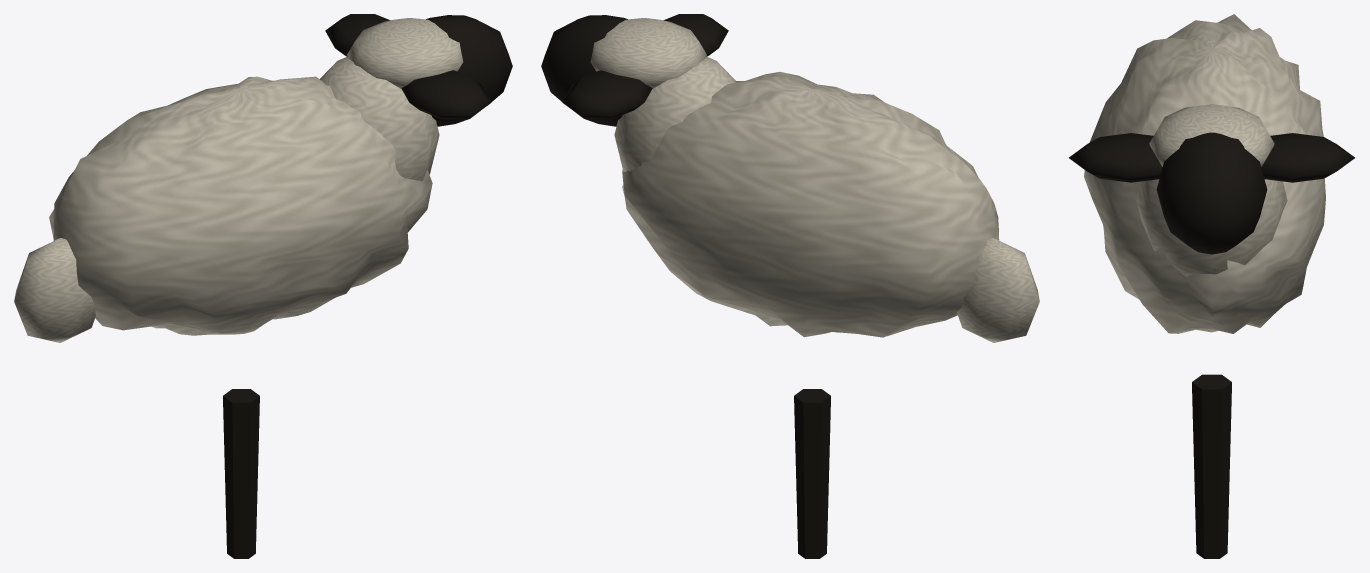
The model's file is SheepRig.glb.
The picture shows the model from 3 angles, left to right: view 1: azimuth 30°, elevation 25°; view 2: azimuth 150°, elevation 25°; view 3: azimuth 270°, elevation 25°; orthographic projection. The views are drawn at different scales.
Visible parts, largest first — view 1: Sheep_Rig_body, Sheep_Rig_head, Sheep_Rig_leg; view 2: Sheep_Rig_body, Sheep_Rig_head, Sheep_Rig_leg; view 3: Sheep_Rig_body, Sheep_Rig_head, Sheep_Rig_leg.
Part boxes in pixels (x1=…): Sheep_Rig_body: x1=14, y1=76, x2=432, y2=342; Sheep_Rig_head: x1=320, y1=14, x2=512, y2=181; Sheep_Rig_leg: x1=223, y1=389, x2=259, y2=558; Sheep_Rig_body: x1=622, y1=72, x2=1039, y2=342; Sheep_Rig_head: x1=541, y1=14, x2=735, y2=171; Sheep_Rig_leg: x1=794, y1=389, x2=830, y2=558; Sheep_Rig_body: x1=1084, y1=14, x2=1325, y2=333; Sheep_Rig_head: x1=1069, y1=104, x2=1354, y2=276; Sheep_Rig_leg: x1=1192, y1=374, x2=1231, y2=558.
Size of the model in its own units: 0.246 by 0.231 by 0.114.
Materials: 2 (2 with a texture image).
